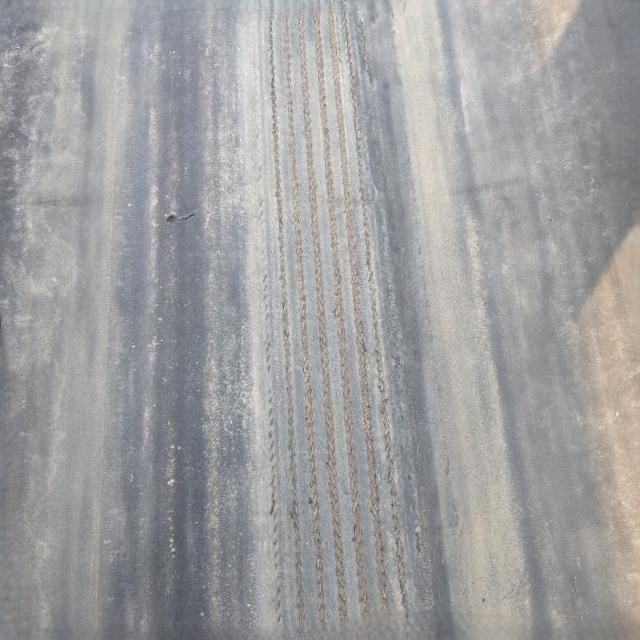Puncture: (160, 208, 183, 228)
Wear: (250, 0, 423, 640)
